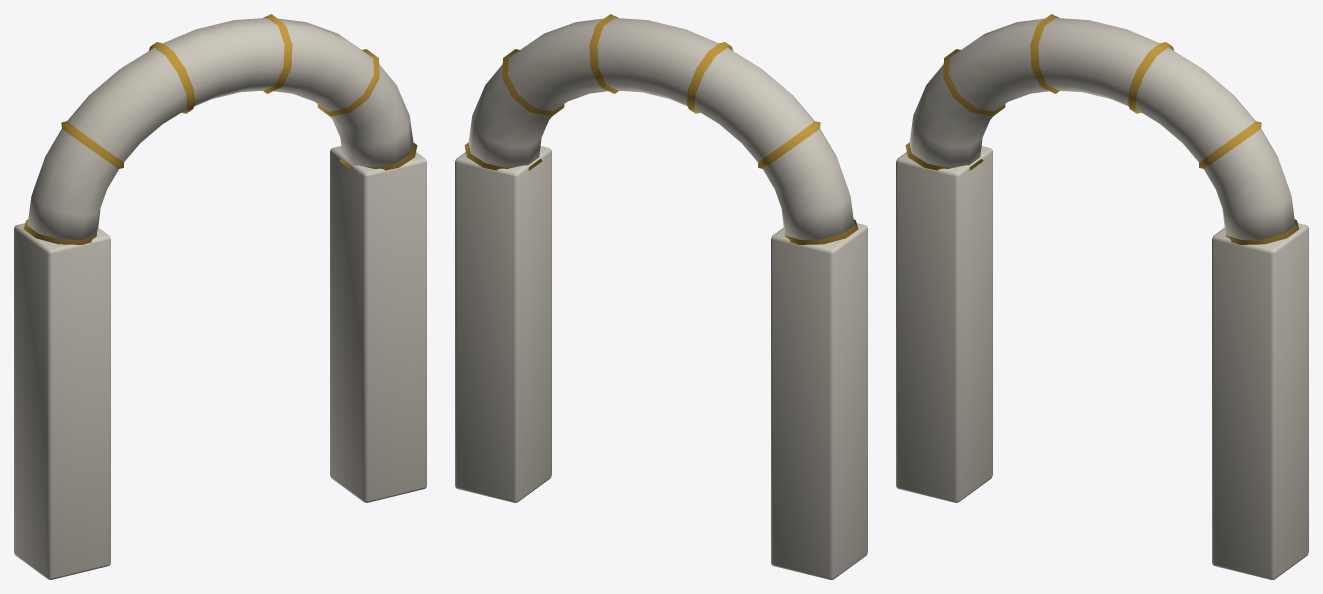
File: arch.glb
3 views of the same model, side by side, from view 1: azimuth 30°, elevation 25°; view 2: azimuth 150°, elevation 25°; view 3: azimuth 330°, elevation 25° (orthographic).
Visible parts, largest first — view 1: Arch; view 2: Arch; view 3: Arch.
Boxes of the visible parts, box(x1,y1,x2,y2) form: Arch: box(14, 14, 426, 579); Arch: box(455, 14, 867, 579); Arch: box(896, 14, 1308, 579).
Bounding box in the file's own units: 12.07 × 14.93 × 2.2.
